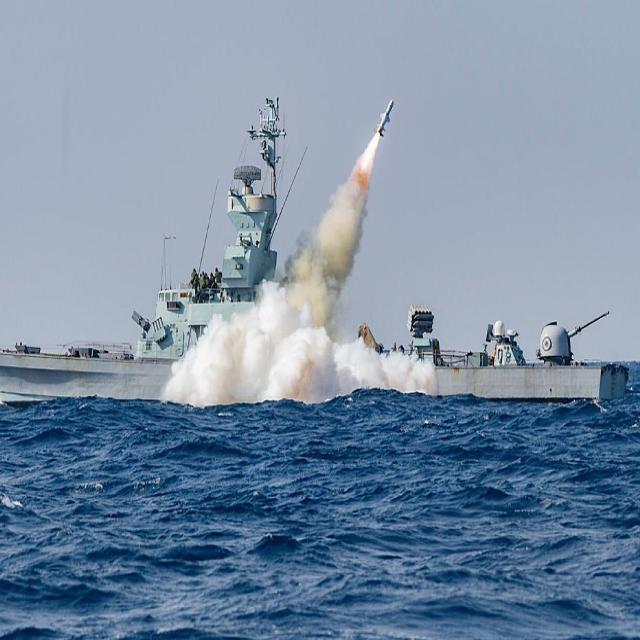navalvessels: (0, 87, 629, 410)
